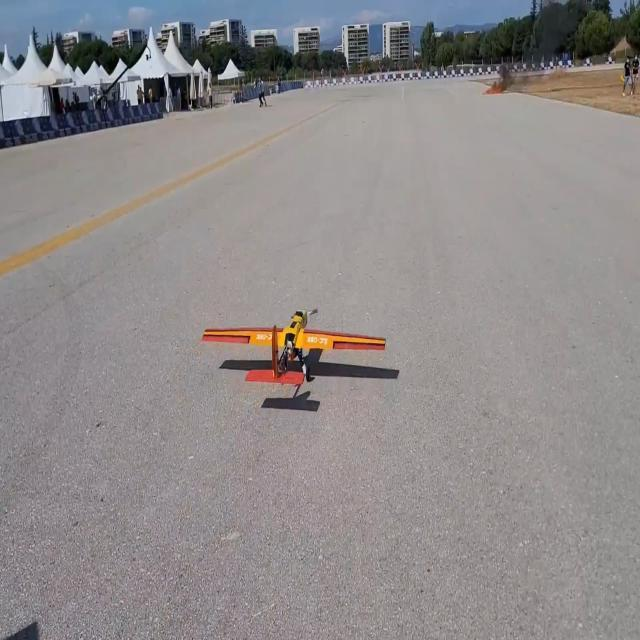iha: (194, 331, 403, 385), (0, 622, 47, 640)
